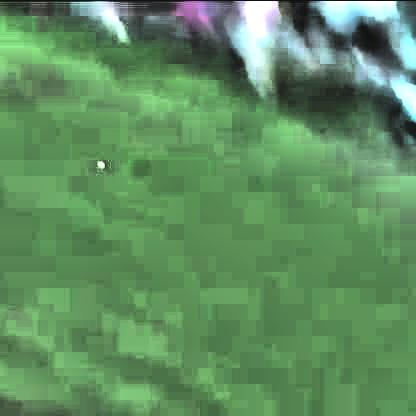golfball: (93, 158, 104, 168)
